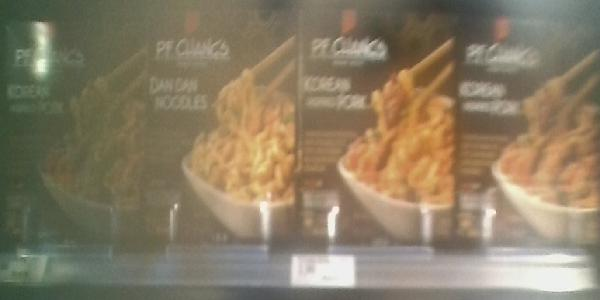pizza1: (305, 4, 458, 254), (147, 6, 302, 241), (460, 10, 597, 252), (2, 20, 145, 248)
